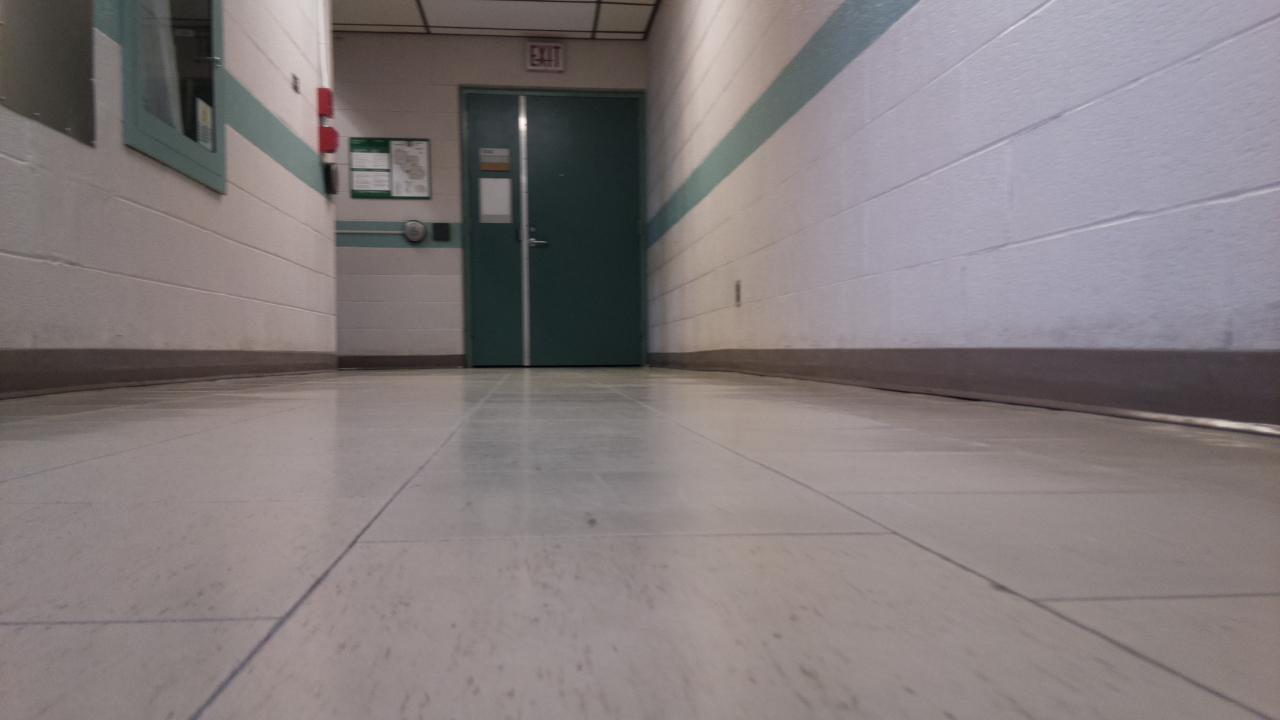door: (470, 94, 642, 364)
sign: (349, 137, 430, 199), (527, 44, 563, 70), (479, 148, 510, 176)
